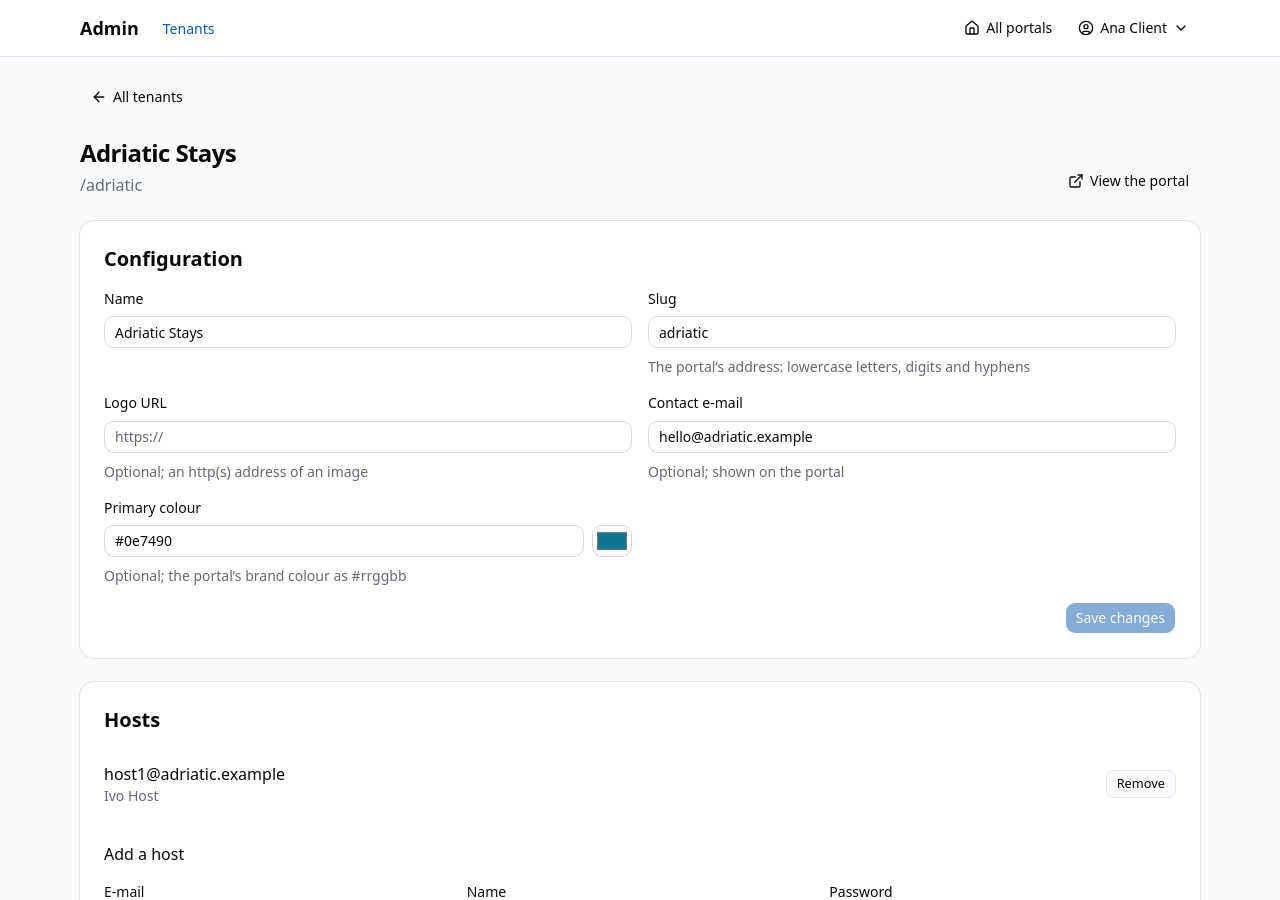
it: AdminTenantPage — configuration › shows a taken slug (SLUG_TAKEN) on its field
Replace the text in the field labelled "Slug" with "alpine": {"x": 912, "y": 332} [648,316,1176,348]
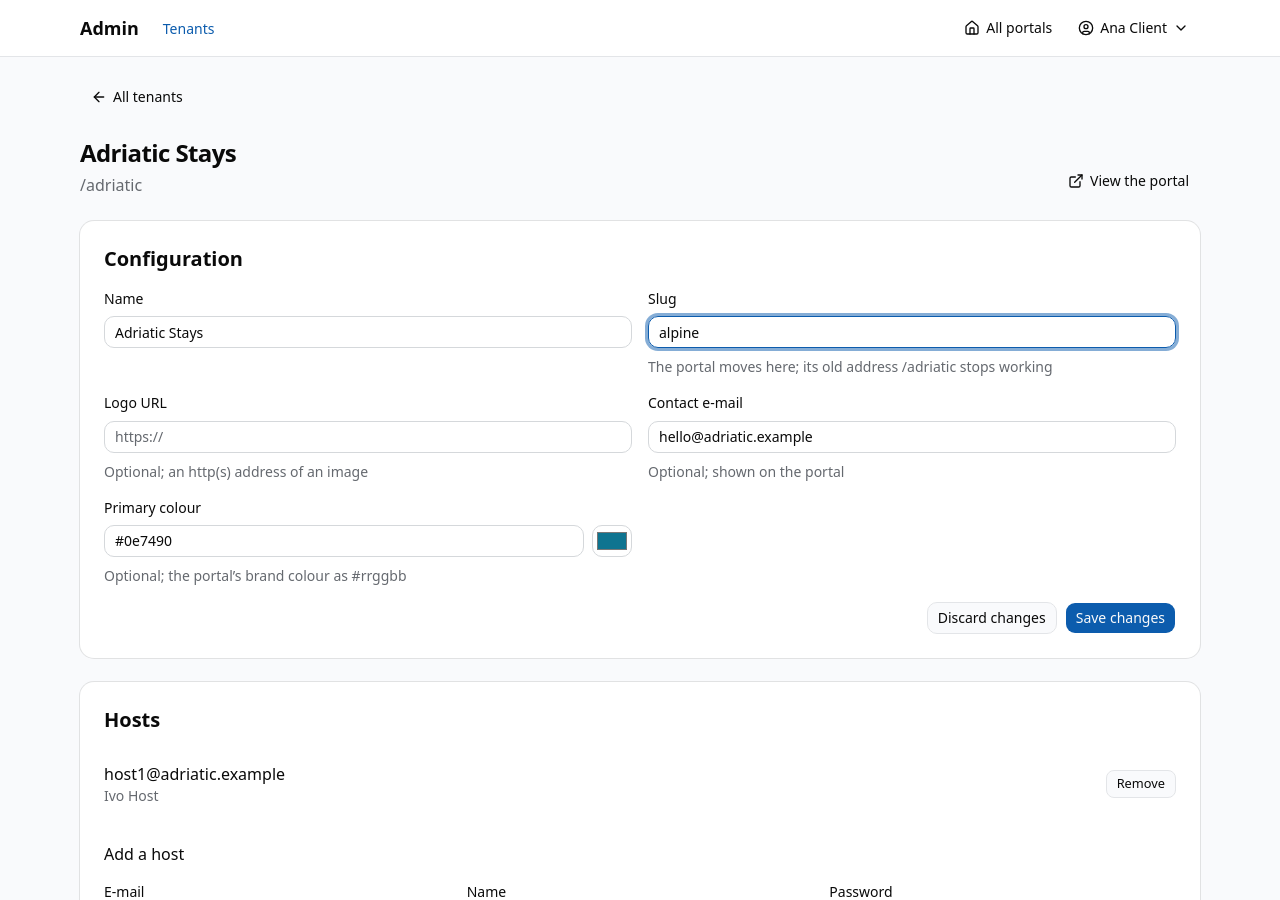
Click the button "Save changes": {"x": 1120, "y": 618} [1065,602,1176,634]
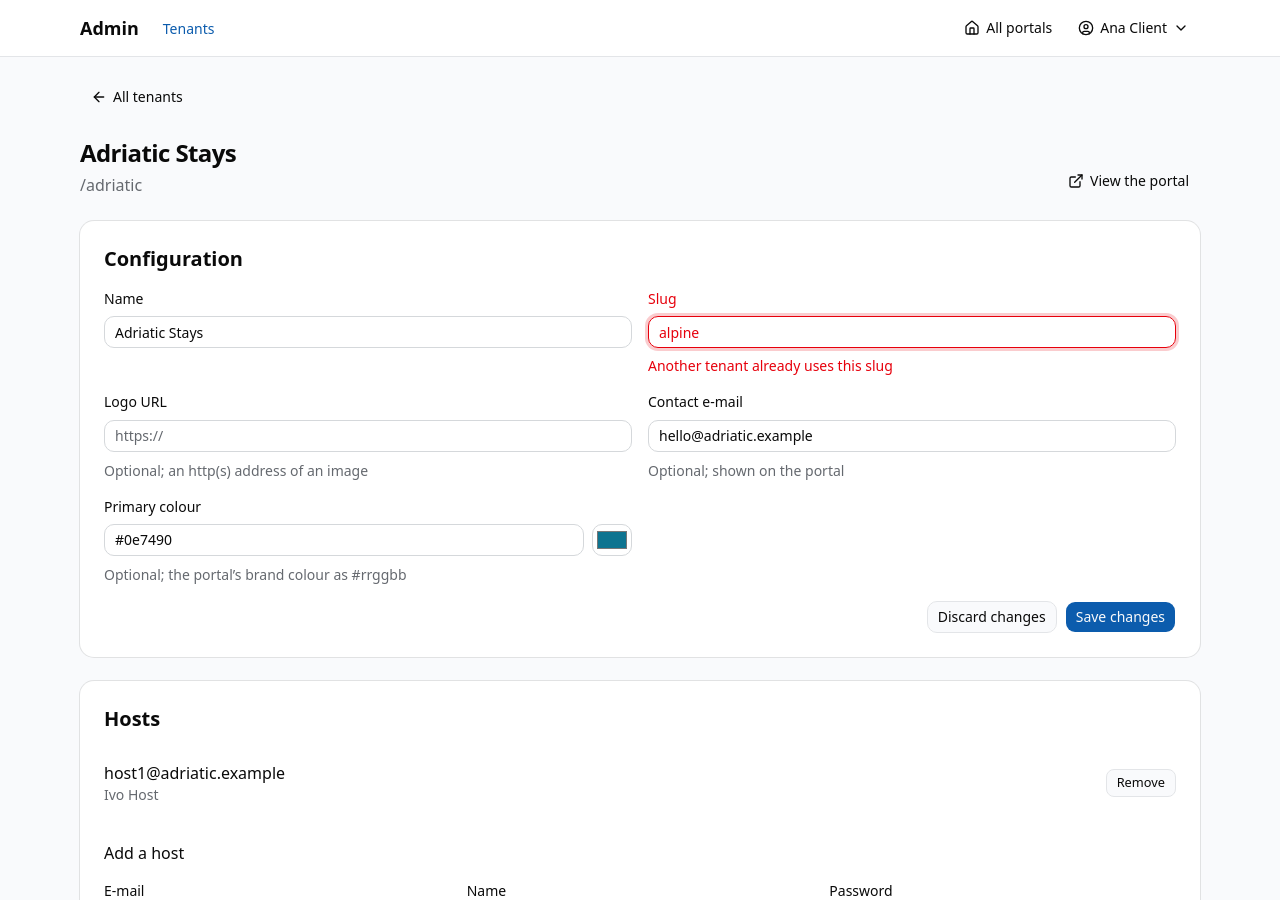
Result: the number of messages is 1 at [648,356,893,375]
